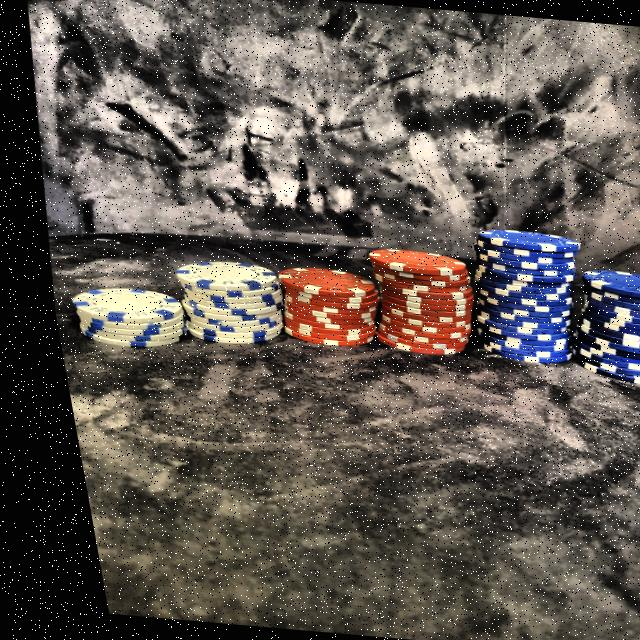Chip: (447, 214, 598, 377), (346, 235, 480, 368), (145, 242, 295, 358), (258, 252, 389, 363), (548, 255, 640, 400), (56, 267, 196, 362)
